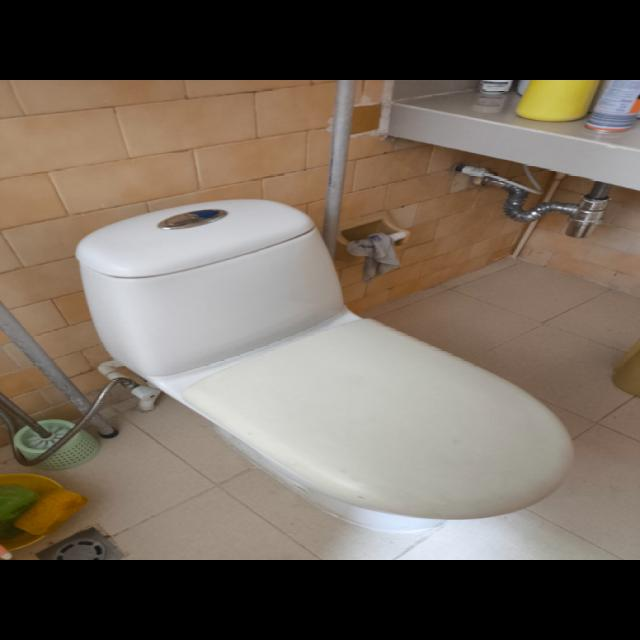toilet: (70, 193, 587, 525)
